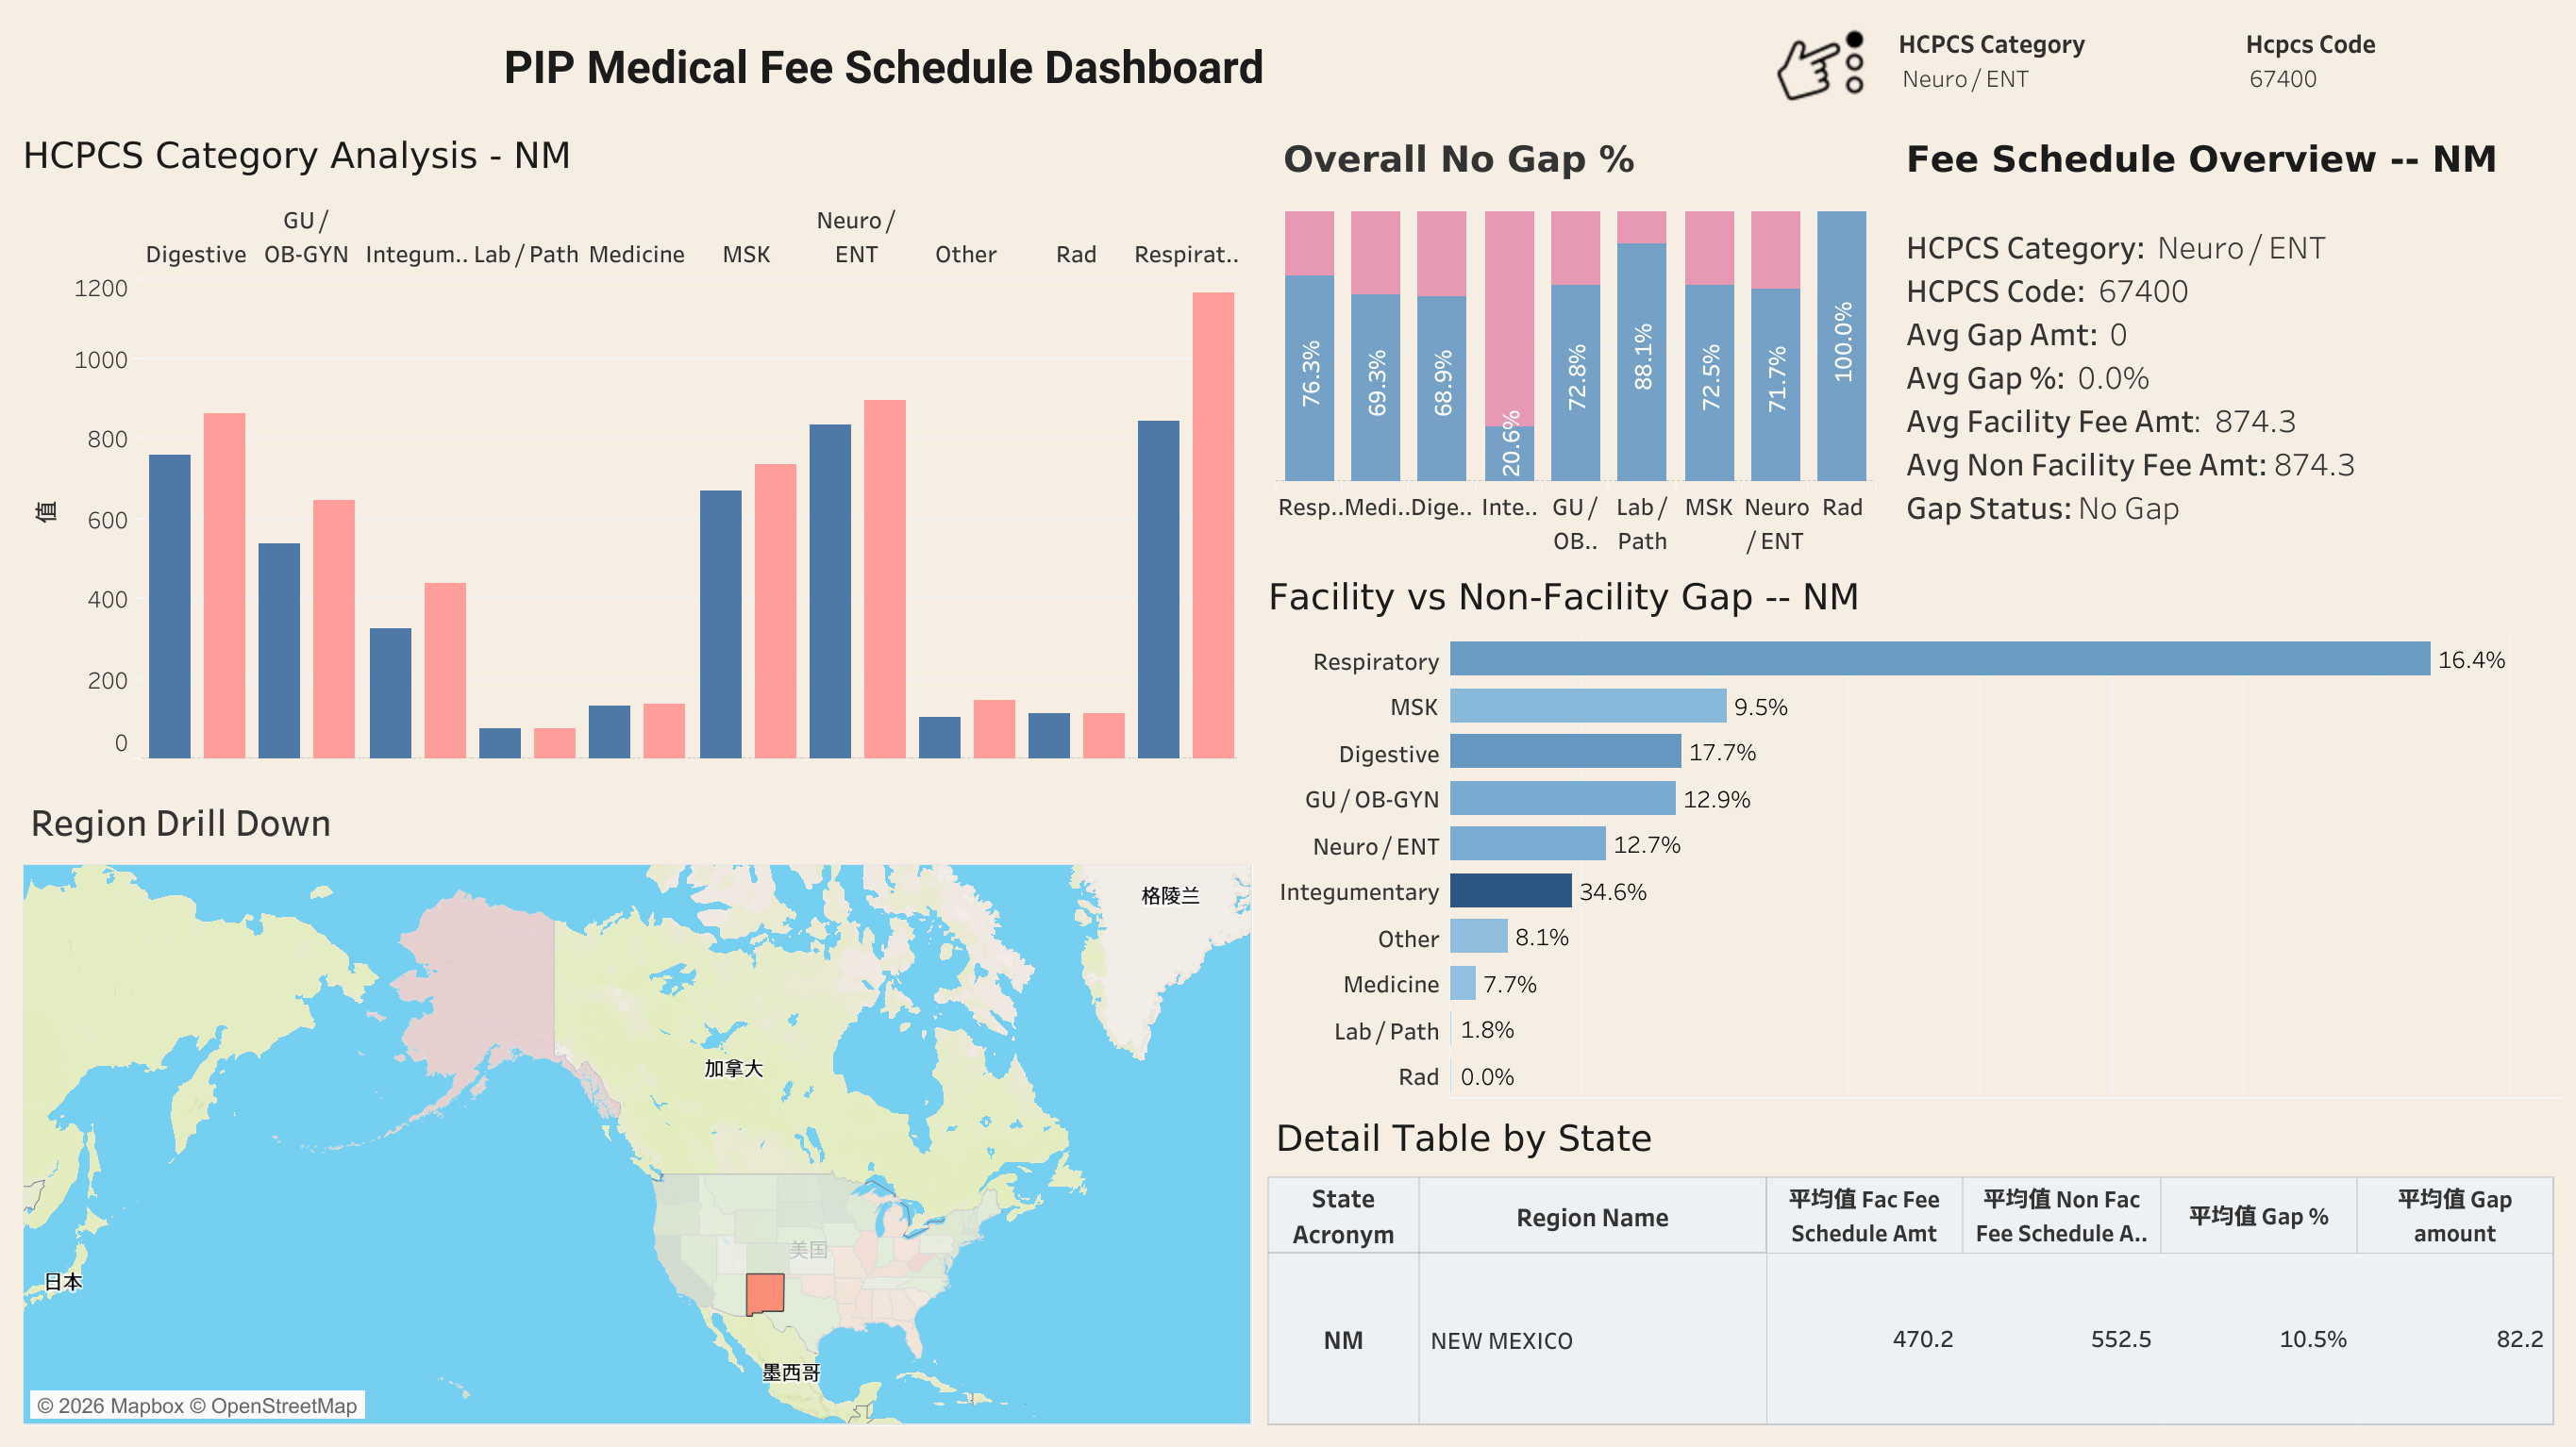

Layout of this report page (visuals, bound fields, positions):
{"tool":"tableau","page":{"name":"Dashboard 1","canvas":[1366,768],"ordinal":0},"visuals":[{"type":"text","box":[8,8,921,55]},{"type":"image","param":"/Users/freewitch/Desktop/截屏2026-11-06 下午2.57.37.png","box":[929,8,73,55]},{"type":"filter","title":"Fee Schedule Overview","param":"[federated.0xokk6a02mo5c314dbuyg01s2bjz].[none:Calculation_2093738887524353:nk]","box":[1002,8,184,55]},{"type":"filter","title":"Fee Schedule Overview","param":"[federated.0xokk6a02mo5c314dbuyg01s2bjz].[none:hcpcs_code:ok]","box":[1186,8,172,55]},{"type":"worksheet","title":"HCPCS Category Analysis","mark":"Bar","cols":["Calculation_2093738887524353"],"box":[8,63,660,348.5]},{"type":"worksheet","title":"No Gap %","mark":"Bar","rows":["Calculation_4361688888283136","Calculation_2093739591933962"],"cols":["Calculation_2093738887524353"],"box":[668,63,334,236]},{"type":"worksheet","title":"Fee Schedule Overview","mark":"Text","box":[1002,63,356,236]},{"type":"worksheet","title":"Facility vs Non-Facility Gap","mark":"Automatic","rows":["Calculation_2093738887524353"],"cols":["Calculation_2093739184041986"],"box":[668,299,690,282.9]},{"type":"worksheet","title":"Region Drill Down","mark":"Automatic","box":[8,411.5,660,348.5]},{"type":"worksheet","title":"Detail Table","mark":"Automatic","rows":["state_acronym","region_name"],"box":[668,581.9,690,178.1]}]}

Visuals, with their boxes in screenshot pixels (x1, y1, x2, y2), scaled from the page's 1366x768 canvas onto the 2576x1447 screenshot:
text: (15,15,1752,119)
image: (1752,15,1890,119)
"Fee Schedule Overview" filter: (1890,15,2236,119)
"Fee Schedule Overview" filter: (2236,15,2561,119)
"HCPCS Category Analysis" worksheet (Bar marks): (15,119,1260,775)
"No Gap %" worksheet (Bar marks): (1260,119,1890,563)
"Fee Schedule Overview" worksheet (Text marks): (1890,119,2561,563)
"Facility vs Non-Facility Gap" worksheet: (1260,563,2561,1096)
"Region Drill Down" worksheet: (15,775,1260,1432)
"Detail Table" worksheet: (1260,1096,2561,1432)
